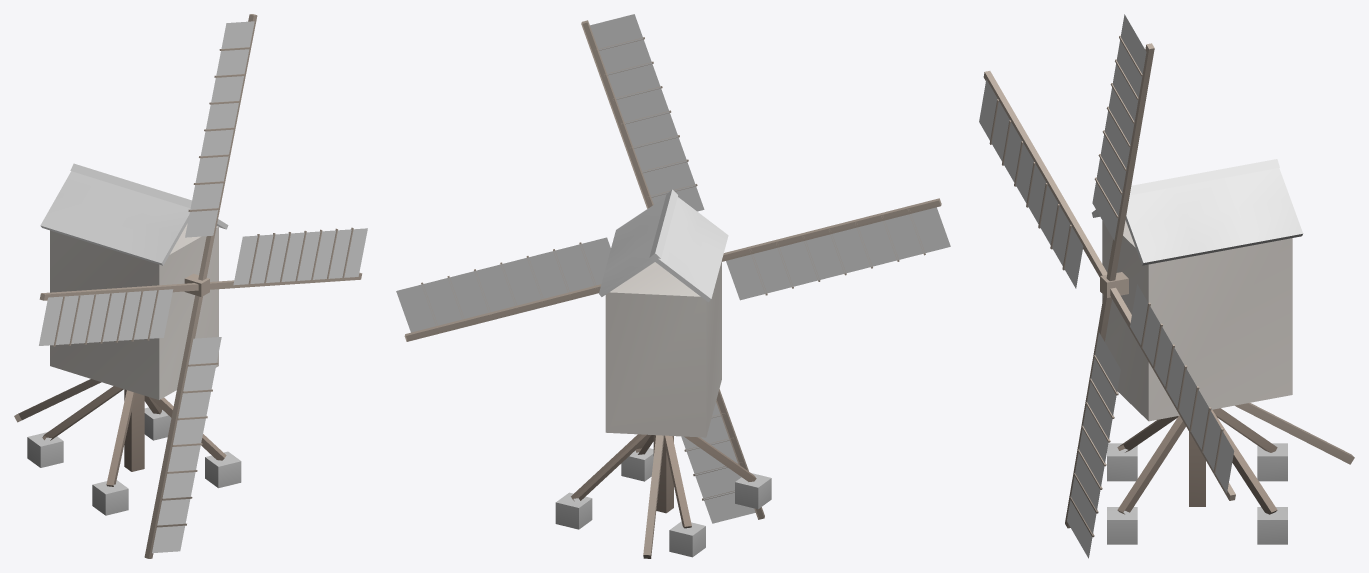
The model's file is windmill_0.glb.
3 views of the same model, side by side, from view 1: azimuth 30°, elevation 25°; view 2: azimuth 150°, elevation 25°; view 3: azimuth 270°, elevation 25° (orthographic). The views are drawn at different scales.
Visible parts, largest first — view 1: windmill_0; view 2: windmill_0; view 3: windmill_0.
Part boxes in pixels (bbox=[...]): windmill_0: bbox=[14, 14, 367, 558]; windmill_0: bbox=[396, 14, 950, 558]; windmill_0: bbox=[979, 14, 1354, 558].
Size of the model in its own units: 17.17 by 18.73 by 11.
